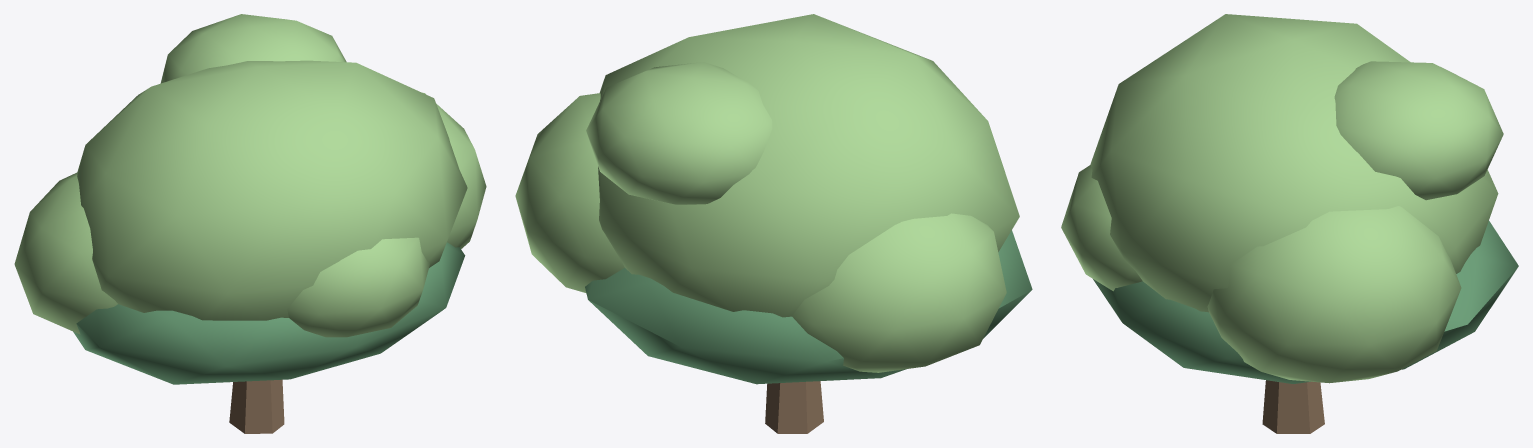
File: hearthvale_bush.glb
3 views of the same model, side by side, from view 1: azimuth 30°, elevation 25°; view 2: azimuth 150°, elevation 25°; view 3: azimuth 270°, elevation 25° (orthographic). The views are drawn at different scales.
Visible parts, largest first — view 1: hv_bush; view 2: hv_bush; view 3: hv_bush.
Boxes of the visible parts, box(x1,y1,x2,y2) form: hv_bush: box(14, 14, 486, 433); hv_bush: box(515, 14, 1032, 433); hv_bush: box(1061, 14, 1518, 433).
Bounding box in the file's own units: 1.48 × 1.17 × 1.26.
